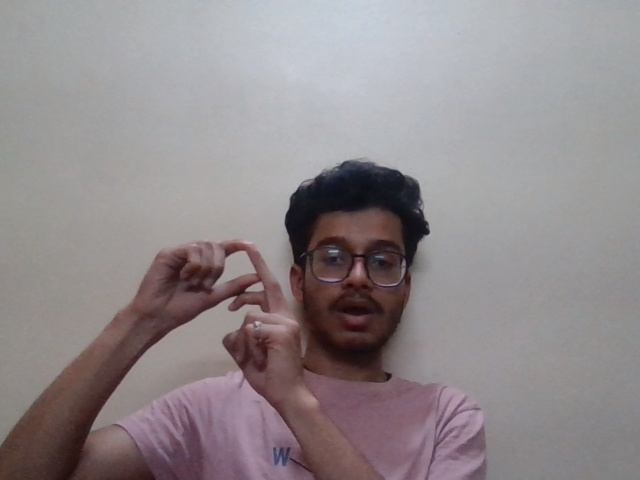R: (126, 239, 316, 403)
